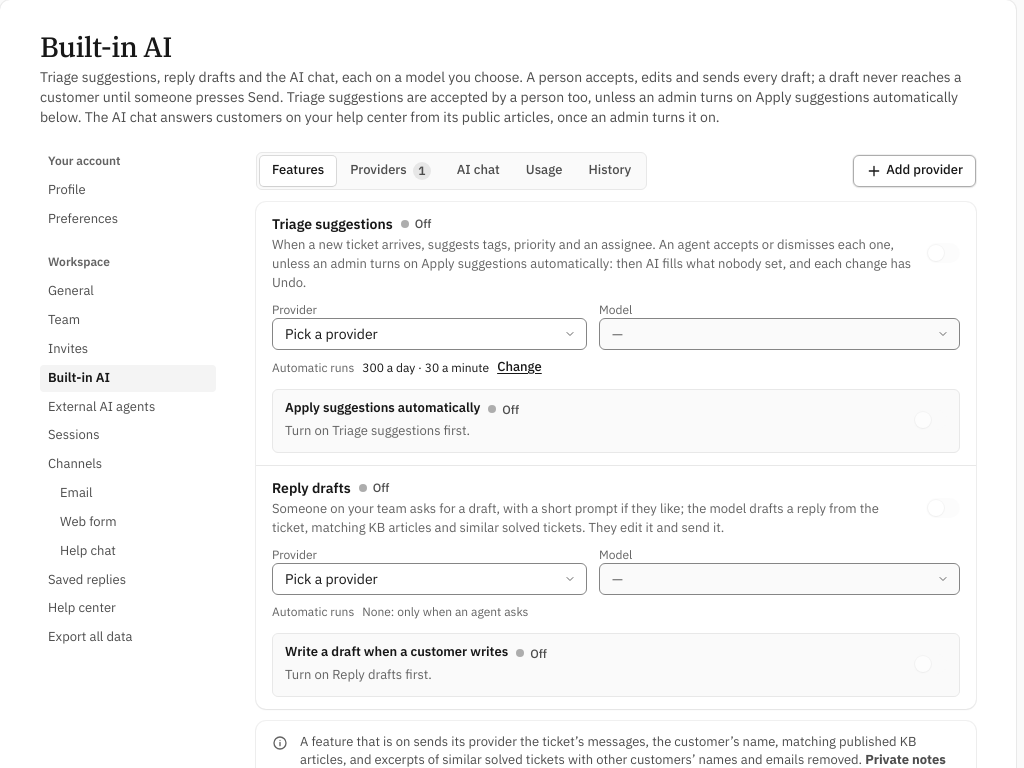
it: changing a key keeps the address, and says how to use another one
Click the tab "Providers 1" at (390, 171), box [338,156,443,186]
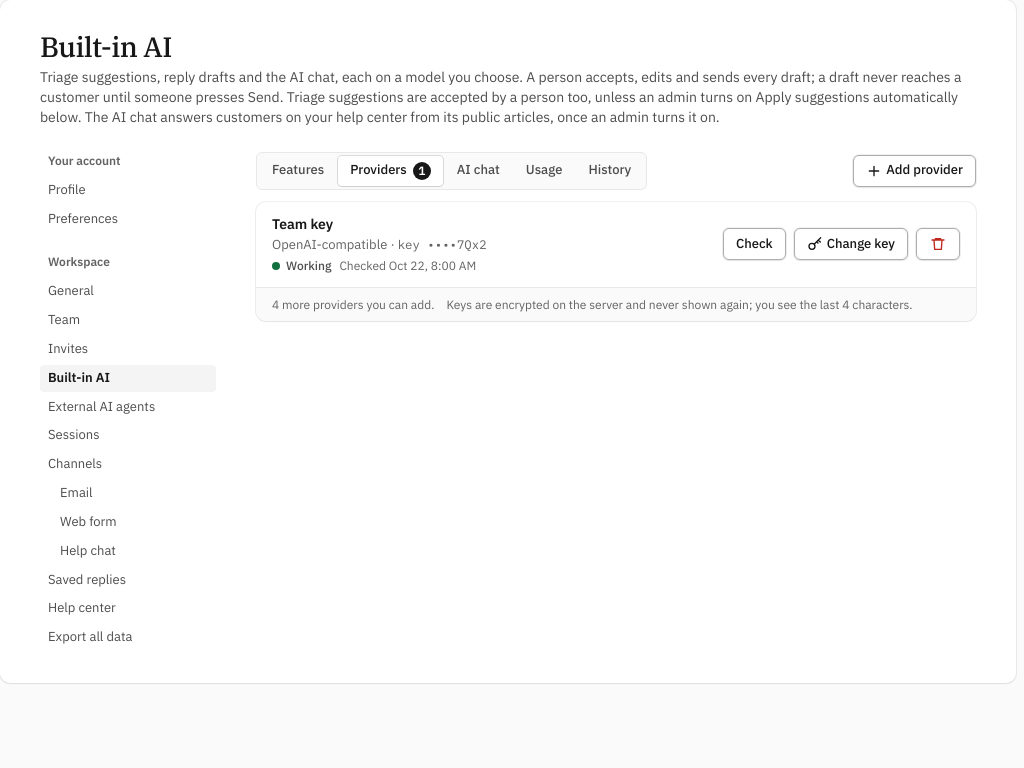
Click the button "Change key" at (851, 244), box [794,228,908,260]
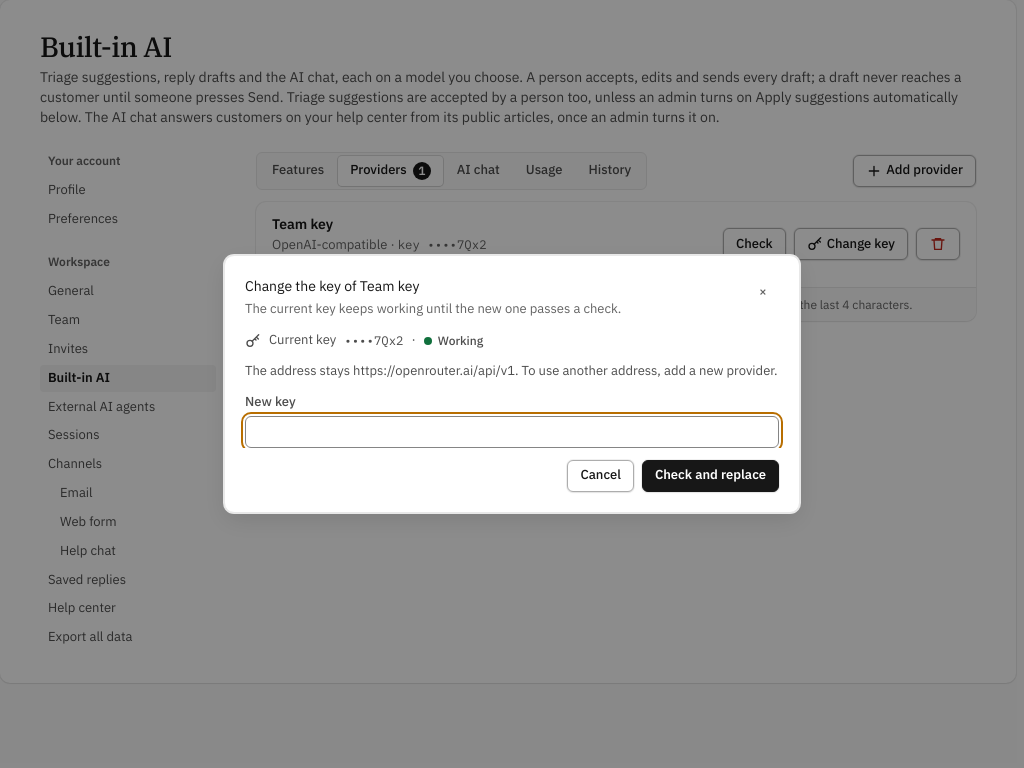
Now the text "The address stays https://openrouter.ai/api/v1. To use another address, add a new provider." is shown, box [245,362,778,379]
